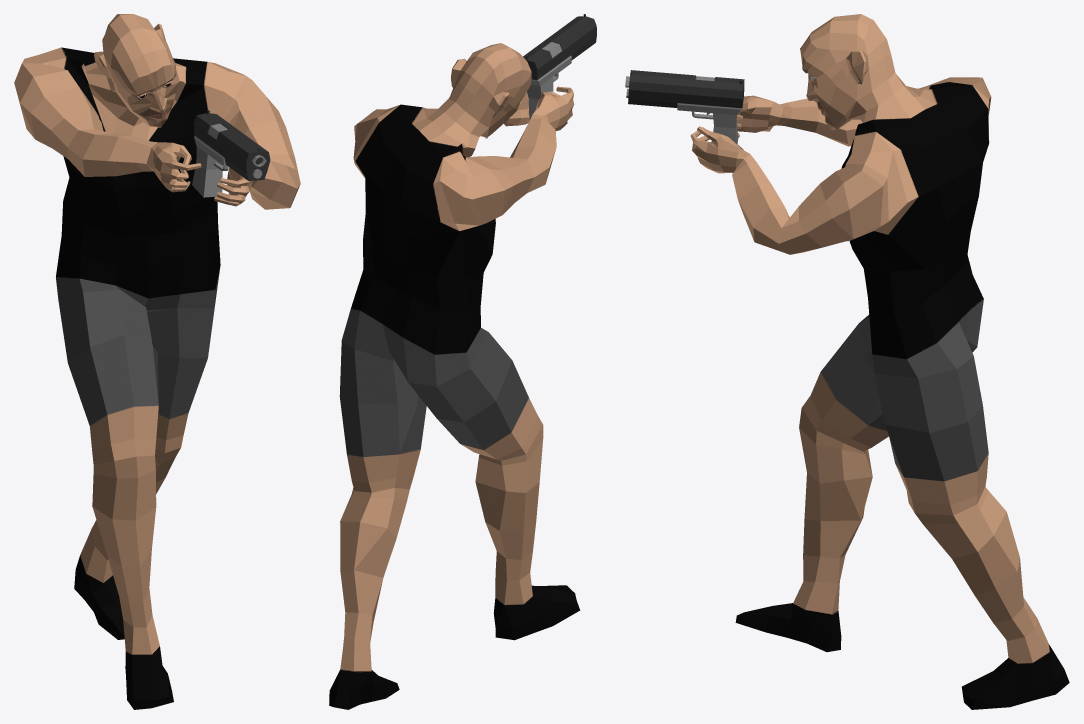
Rendered from PlayerWalk(13).obj.
The picture shows the model from 3 angles, left to right: view 1: azimuth 30°, elevation 25°; view 2: azimuth 150°, elevation 25°; view 3: azimuth 270°, elevation 25°; orthographic projection. The views are drawn at different scales.
Parts seen in each view (by area): view 1: Plane002, Box003; view 2: Plane002, Box003; view 3: Plane002, Box003.
Boxes of the visible parts, box(x1,y1,x2,y2) form: Plane002: box(14, 14, 300, 709); Box003: box(192, 110, 270, 197); Plane002: box(329, 43, 580, 709); Box003: box(523, 14, 596, 119); Plane002: box(690, 14, 1069, 709); Box003: box(625, 70, 744, 143).
Bounding box in the file's own units: 553 × 1724 × 1059.
